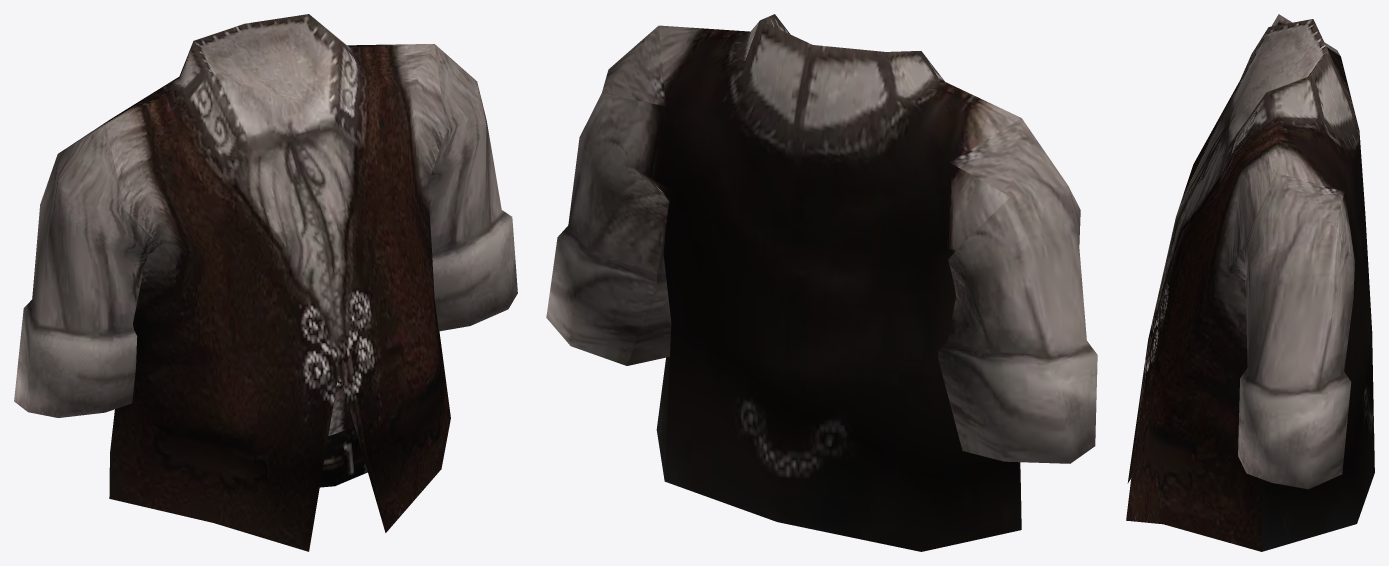
Rendered from STATIC_GS_ARMOR_BAU_M_01.glb.
3 renders of one model, left to right at view 1: azimuth 30°, elevation 25°; view 2: azimuth 150°, elevation 25°; view 3: azimuth 270°, elevation 25°, orthographic. The views are drawn at different scales.
Parts seen in each view (by area): view 1: Mesh; view 2: Mesh; view 3: Mesh.
Boxes of the visible parts, left/top/right/bottom form: Mesh: left=14, top=14, right=517, bottom=551; Mesh: left=546, top=14, right=1097, bottom=551; Mesh: left=1126, top=14, right=1374, bottom=551.
Size of the model in its own units: 0.6415 by 0.5683 by 0.2826.
2 materials, 2 textured.
